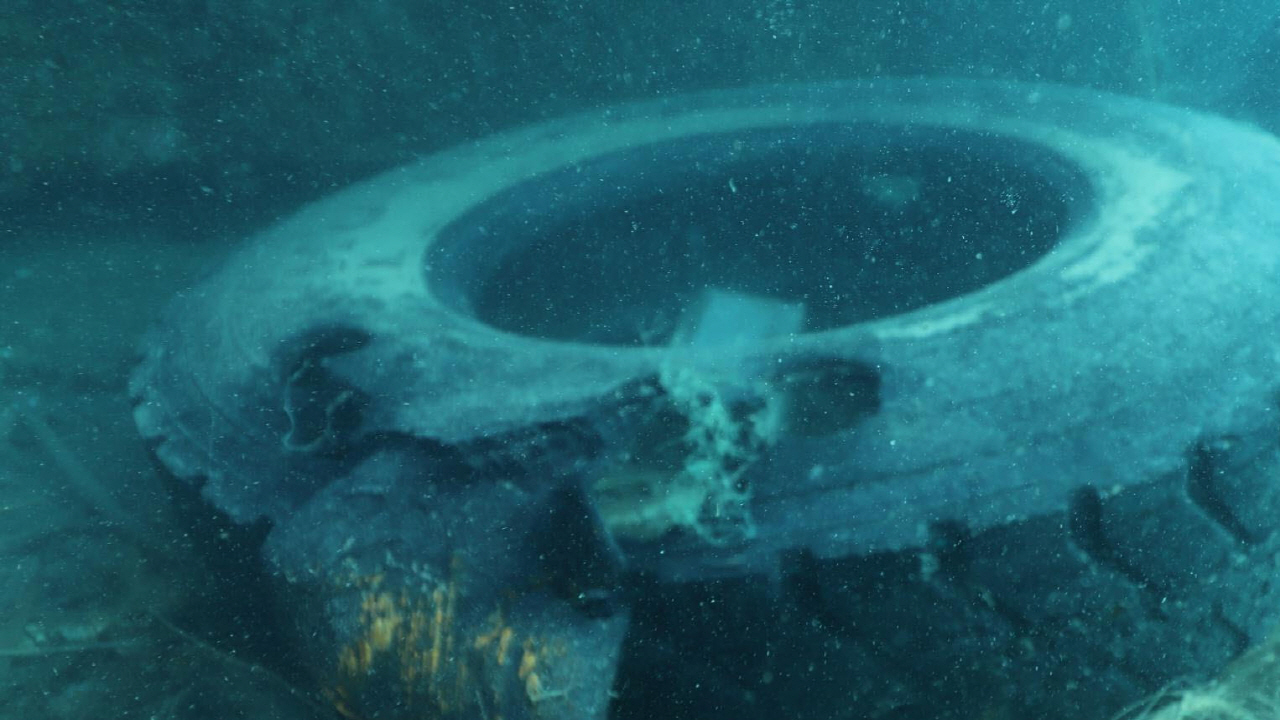tire: (131, 76, 1279, 720)
